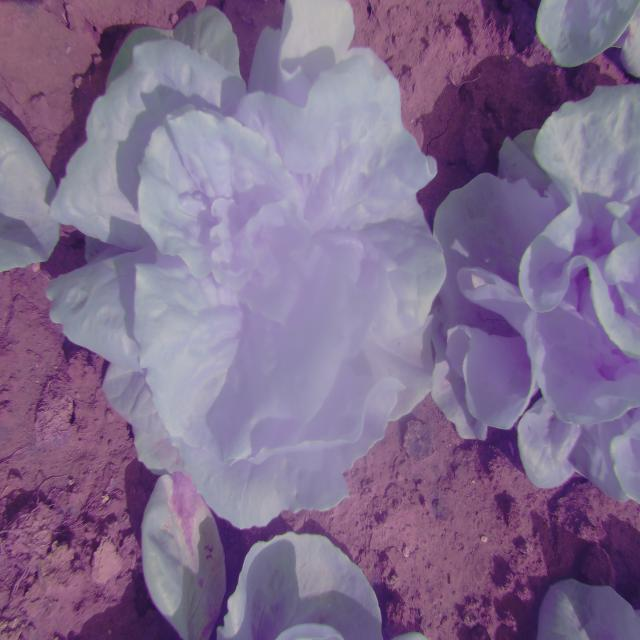vege: (48, 0, 442, 507)
